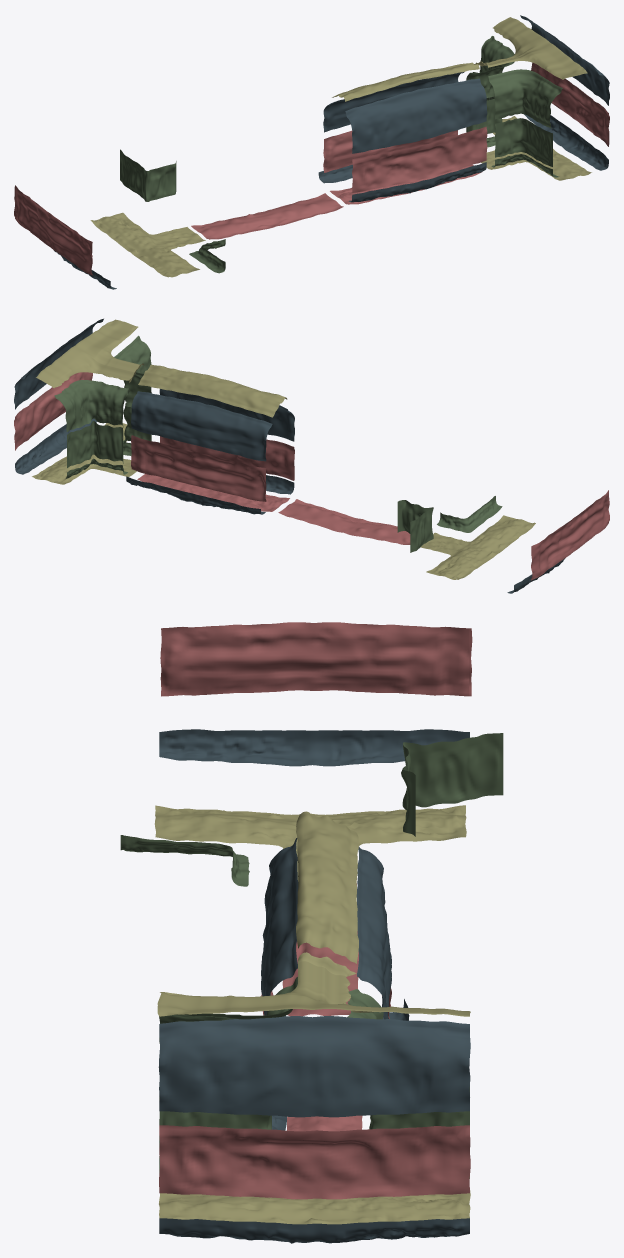
File: Cave_Modules.fbx
The picture shows the model from 3 angles, top to bottom: view 1: azimuth 30°, elevation 25°; view 2: azimuth 150°, elevation 25°; view 3: azimuth 270°, elevation 25°; orthographic projection. The views are drawn at different scales.
Parts seen in each view (by area): view 1: Corner_Wall1_1_, Wall1, Curve_Floor1, Corner_Curve_Roof2, Wall2, Flat_Floor1, Curve_Roof, Wall1_1_, Corner_Wall3, Corner_Wall5, Corner_Wall2, Wall2_1_ (+11 smaller); view 2: Corner_Wall2, Wall2_1_, Curve_Roof, Roof, Curve_Floor1, Wall2, Corner_Curve_Roof1, Flat_Floor1, Corner_Wall4, Wall1_1_, Wall1, Corner_Wall1_1_ (+10 smaller); view 3: Corner_Wall1, Wall1_1_, Wall2, Curve2, Curve_Floor1, Roof, Curve_Floor2, Corner_Wall5, Curve_Roof, Curve1, Corner_Wall1_1_, Corner_Wall2 (+6 smaller).
Boxes of the visible parts, left/top/right/bottom form: Corner_Wall1_1_: left=345, top=78, right=487, bottom=153; Wall1: left=352, top=126, right=487, bottom=192; Curve_Floor1: left=90, top=212, right=205, bottom=277; Corner_Curve_Roof2: left=488, top=69, right=562, bottom=128; Wall2: left=14, top=185, right=92, bottom=275; Flat_Floor1: left=191, top=193, right=343, bottom=239; Curve_Roof: left=474, top=17, right=587, bottom=79; Wall1_1_: left=531, top=62, right=609, bottom=146; Corner_Wall3: left=495, top=118, right=552, bottom=166; Corner_Wall5: left=120, top=149, right=176, bottom=201; Corner_Wall2: left=323, top=72, right=464, bottom=132; Wall2_1_: left=323, top=130, right=457, bottom=172; Corner_Wall2: left=131, top=391, right=272, bottom=461; Wall2_1_: left=131, top=435, right=266, bottom=501; Curve_Roof: left=36, top=319, right=144, bottom=388; Roof: left=138, top=364, right=287, bottom=417; Curve_Floor1: left=420, top=515, right=535, bottom=579; Wall2: left=531, top=490, right=609, bottom=580; Corner_Curve_Roof1: left=54, top=380, right=129, bottom=431; Flat_Floor1: left=278, top=499, right=410, bottom=544; Corner_Wall4: left=67, top=421, right=123, bottom=467; Wall1_1_: left=14, top=372, right=92, bottom=450; Wall1: left=160, top=436, right=294, bottom=480; Corner_Wall1_1_: left=159, top=389, right=294, bottom=441; Corner_Wall1: left=158, top=1016, right=470, bottom=1117; Wall1_1_: left=159, top=1125, right=470, bottom=1199; Wall2: left=160, top=622, right=472, bottom=696; Curve2: left=159, top=729, right=469, bottom=766; Curve_Floor1: left=154, top=805, right=466, bottom=881; Roof: left=296, top=811, right=358, bottom=963; Curve_Floor2: left=159, top=1190, right=470, bottom=1224; Corner_Wall5: left=401, top=733, right=503, bottom=836; Curve_Roof: left=157, top=952, right=470, bottom=1016; Curve1: left=159, top=1218, right=469, bottom=1243; Corner_Wall1_1_: left=261, top=838, right=298, bottom=1015; Corner_Wall2: left=356, top=847, right=391, bottom=1019.
Bounding box in the file's own units: 8721 × 1796 × 2759.
